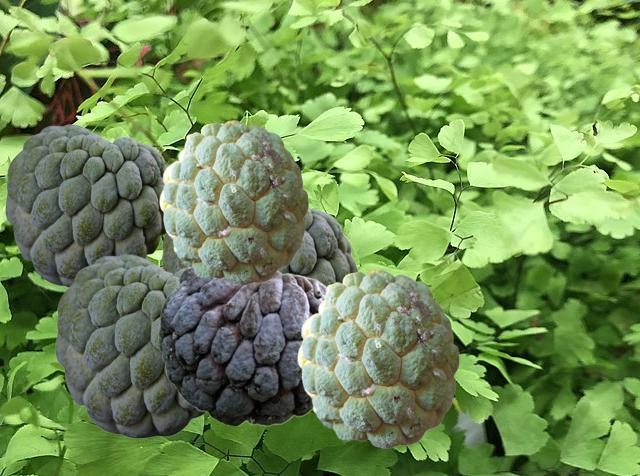atis: (297, 269, 458, 447), (55, 254, 205, 437), (158, 267, 326, 425), (5, 124, 166, 287), (159, 120, 307, 284), (161, 206, 357, 284)
